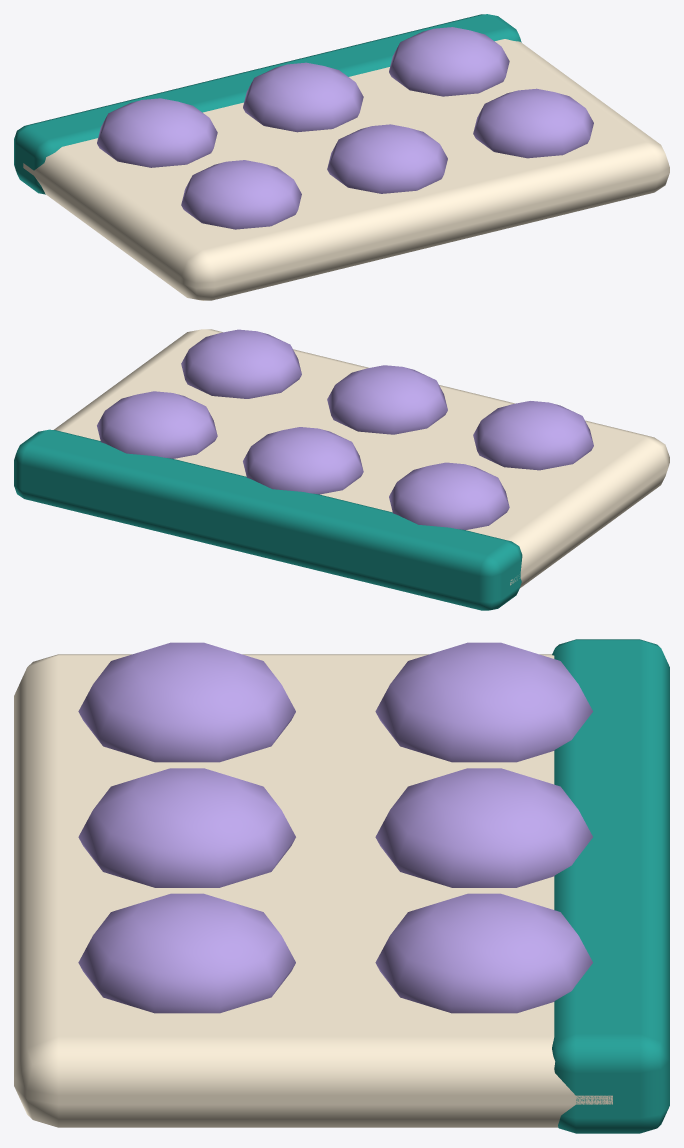
The model's file is lozenges.glb.
3 renders of one model, top to bottom at view 1: azimuth 30°, elevation 25°; view 2: azimuth 150°, elevation 25°; view 3: azimuth 270°, elevation 25°, orthographic. The views are drawn at different scales.
Visible parts, largest first — view 1: Card, Strip, Tab21, Tab00, Tab10, Tab01, Tab20, Tab11; view 2: Strip, Card, Tab20, Tab10, Tab00, Tab01, Tab21, Tab11; view 3: Card, Strip, Tab00, Tab20, Tab10, Tab21, Tab01, Tab11.
Boxes of the visible parts, x1,y1,x2,y2 form: Card: (23,39,669,300); Strip: (14,14,521,194); Tab21: (389,27,509,96); Tab00: (181,160,301,229); Tab10: (327,124,447,193); Tab01: (97,98,217,167); Tab20: (473,88,593,158); Tab11: (243,62,363,132); Strip: (14,429,522,610); Card: (54,329,669,588); Tab20: (181,329,301,398); Tab10: (327,365,447,434); Tab00: (473,401,593,470); Tab01: (389,462,509,530); Tab21: (97,391,217,458); Tab11: (243,427,363,494); Card: (14,654,612,1127); Strip: (552,639,669,1133); Tab00: (78,642,295,762); Tab20: (78,893,295,1013); Tab10: (78,768,295,887); Tab21: (375,893,592,1013); Tab01: (375,642,592,762); Tab11: (375,768,592,887).
Bounding box in the file's own units: 0.2 × 0.0341 × 0.1325.
